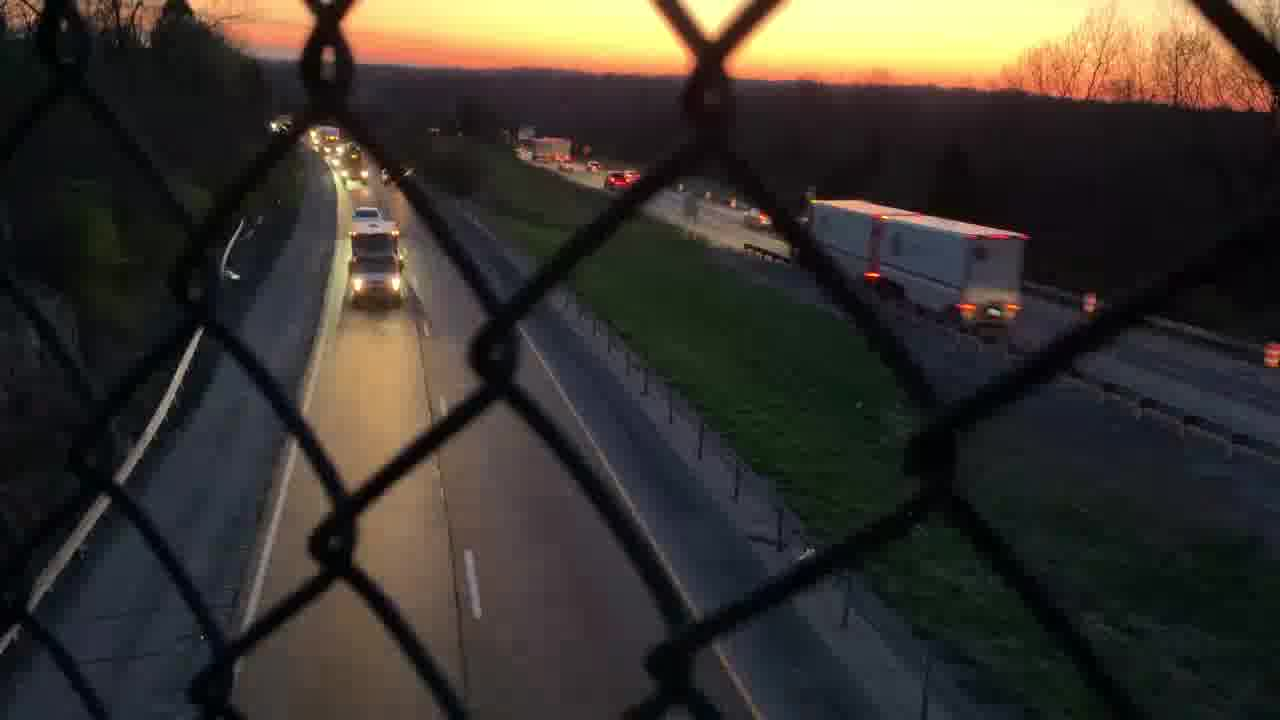heavyTruck: (795, 199, 1025, 334), (344, 218, 411, 314)
